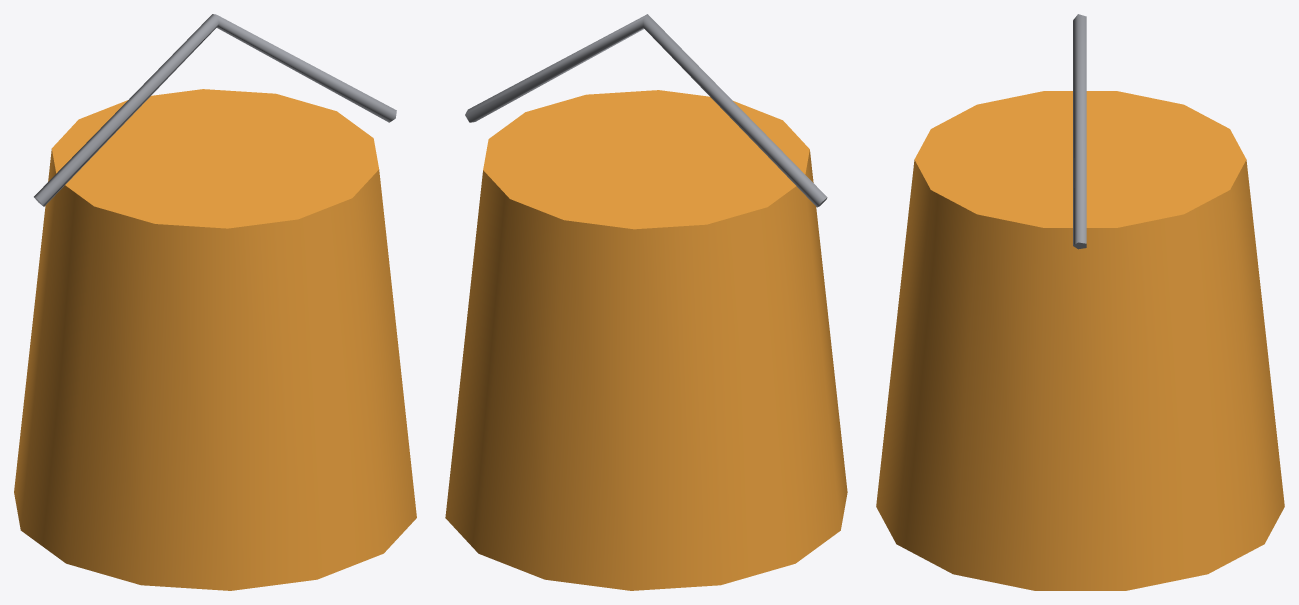
The model's file is bucket.glb.
3 views of the same model, side by side, from view 1: azimuth 30°, elevation 25°; view 2: azimuth 150°, elevation 25°; view 3: azimuth 270°, elevation 25° (orthographic).
Visible parts, largest first — view 1: bucket; view 2: bucket; view 3: bucket.
Part boxes in pixels (bbox=[...]): bucket: bbox=[14, 14, 416, 590]; bucket: bbox=[445, 14, 847, 590]; bucket: bbox=[876, 14, 1284, 590].
Bounding box in the file's own units: 0.3268 × 0.4257 × 0.32.
